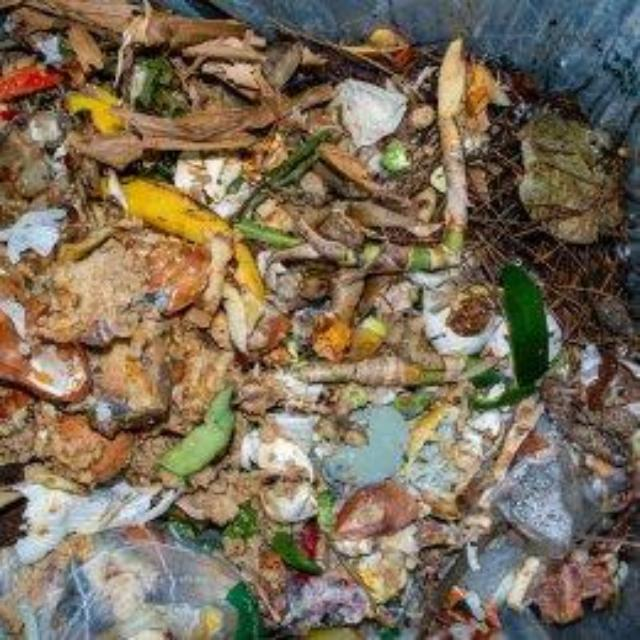Garbage: (0, 0, 640, 640)
contaminated_waste: (497, 411, 640, 561), (18, 479, 181, 566), (6, 203, 74, 266)
